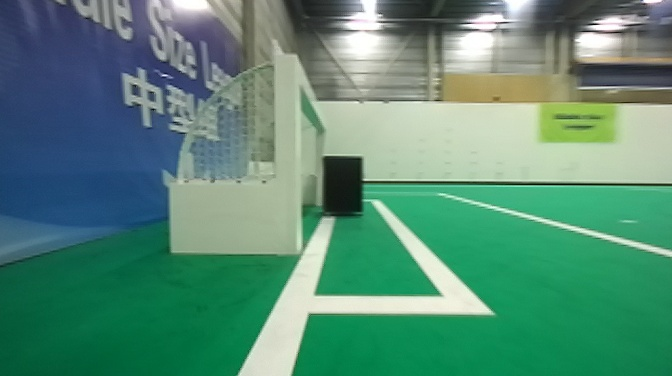goalpost: (269, 53, 302, 258), (311, 119, 325, 216)
